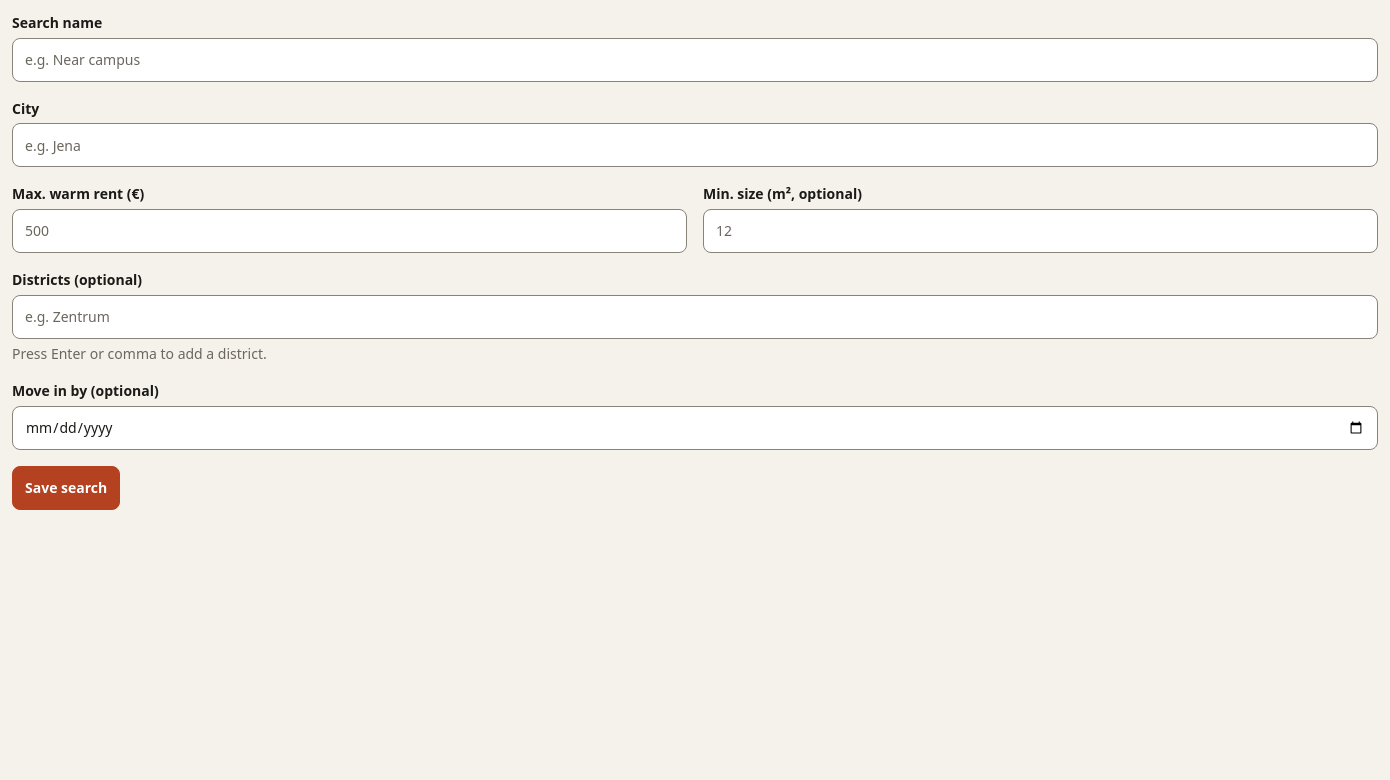
SearchForm › reports required fields and focuses the first error
This screenshot has width=1390, height=780.
Click the button "Save search" at (66, 488), box [12,466,120,510]
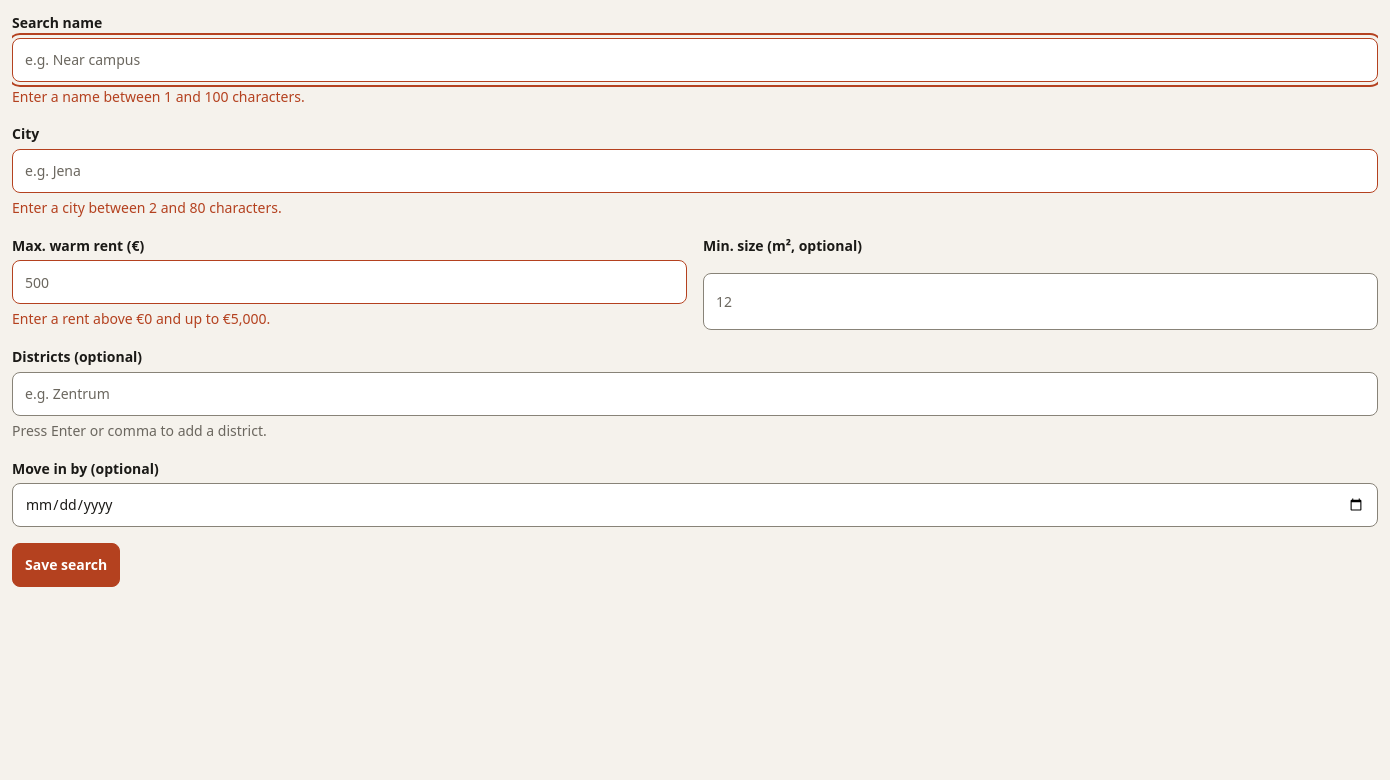
Expected: the text "Enter a name between 1 and 100 characters." is shown, [12,87,305,106]
Expected: the text "Enter a city between 2 and 80 characters." is shown, [12,198,282,217]
Expected: the text "Enter a rent above €0 and up to €5,000." is shown, [12,309,270,328]
